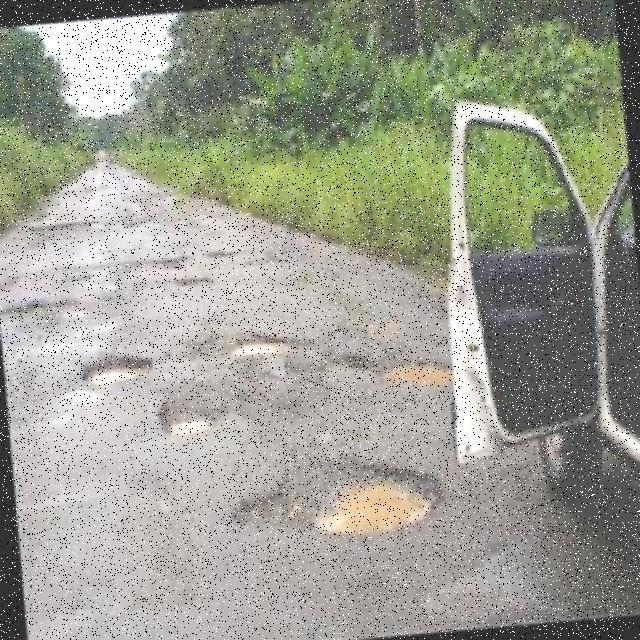Pothole: (233, 458, 445, 538), (157, 396, 220, 436), (80, 355, 154, 386), (381, 361, 453, 389), (234, 333, 299, 358)
